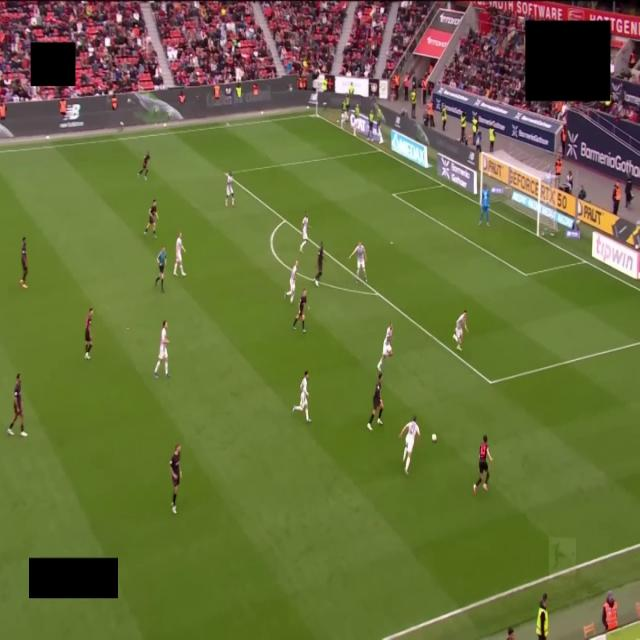ball: (432, 434, 436, 442)
player: (7, 374, 27, 437), (399, 416, 420, 474), (474, 435, 492, 493), (367, 373, 383, 431), (293, 371, 310, 423), (154, 320, 169, 377), (170, 444, 181, 513), (349, 242, 367, 282), (377, 323, 392, 371), (453, 310, 468, 351), (173, 232, 186, 276), (293, 289, 306, 333), (285, 261, 298, 303), (144, 200, 158, 238), (314, 242, 324, 287), (85, 308, 93, 359), (479, 189, 490, 226), (20, 237, 27, 288), (300, 212, 308, 253), (138, 152, 150, 179), (225, 172, 234, 207)
referee: (155, 247, 166, 293)
